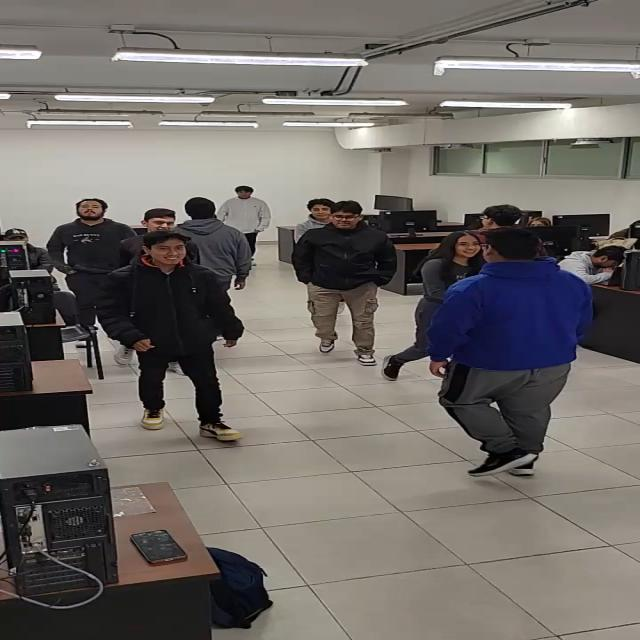Persona: (422, 227, 599, 476), (99, 228, 249, 442), (290, 200, 396, 367), (381, 230, 489, 384), (46, 199, 140, 348), (174, 197, 250, 296), (111, 208, 206, 273), (219, 186, 271, 266), (293, 197, 340, 247), (472, 203, 535, 230)
